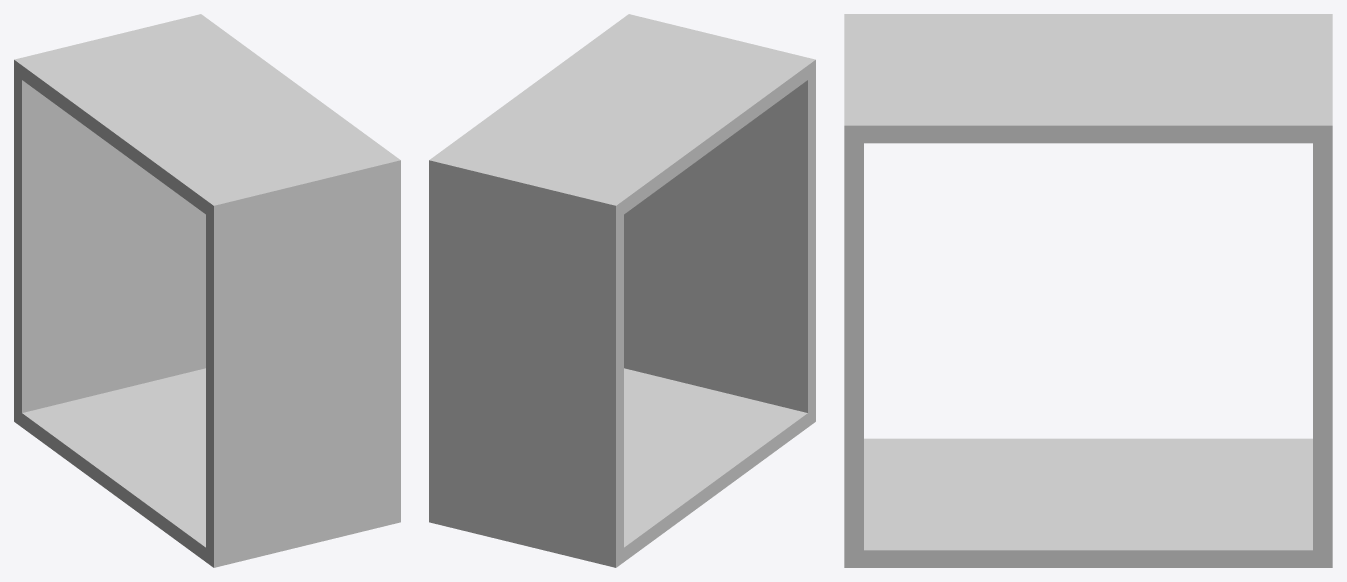
Rendered from SimpleBox02.fbx.
3 renders of one model, left to right at view 1: azimuth 30°, elevation 25°; view 2: azimuth 150°, elevation 25°; view 3: azimuth 270°, elevation 25°, orthographic. The views are drawn at different scales.
Parts seen in each view (by area): view 1: SimpleBox02; view 2: SimpleBox02; view 3: SimpleBox02.
Part boxes in pixels (x1,y1,x2,y2): SimpleBox02: [14, 14, 400, 567]; SimpleBox02: [429, 14, 815, 567]; SimpleBox02: [844, 14, 1332, 567].
Bounding box in the file's own units: 0.2703 × 0.5 × 0.5.
